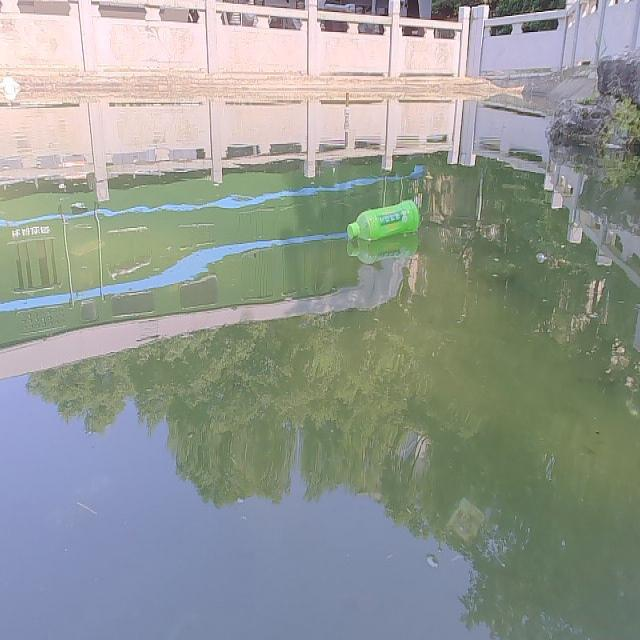bottle: (346, 199, 422, 241)
